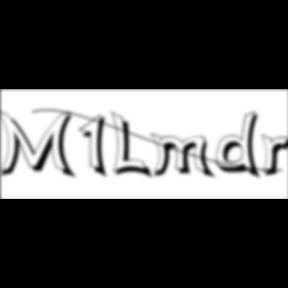1: (78, 114, 114, 182)
L: (111, 110, 155, 182)
M: (0, 108, 80, 181)
d: (216, 110, 266, 182)
m: (150, 132, 218, 181)
